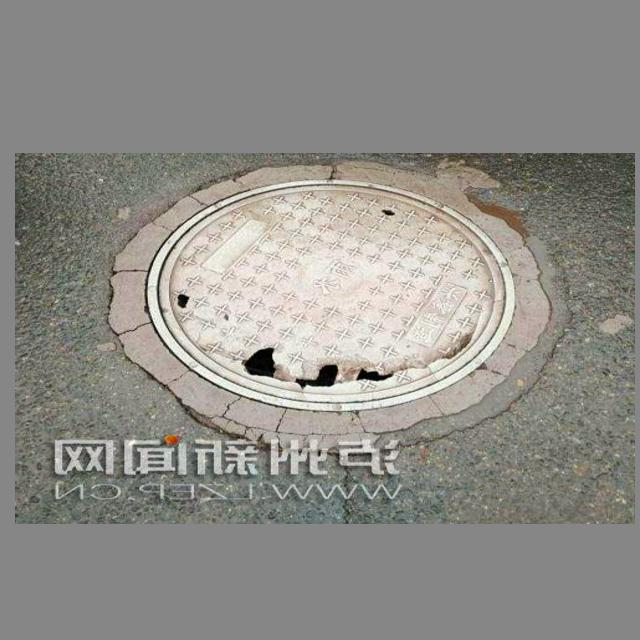broke: (125, 170, 570, 440)
